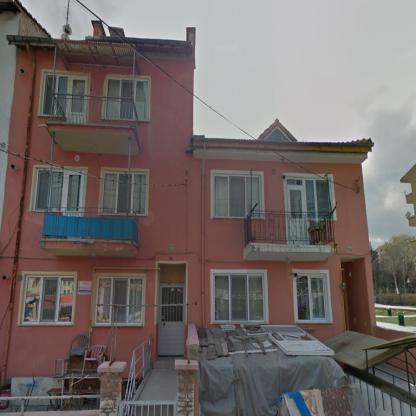door: (159, 285, 183, 354), (286, 179, 308, 242), (64, 170, 84, 216), (70, 76, 87, 124)
window: (22, 275, 74, 323), (214, 275, 264, 322), (95, 277, 143, 324), (214, 176, 261, 217), (102, 173, 146, 214), (106, 79, 148, 120), (296, 275, 326, 321), (35, 170, 65, 210), (305, 179, 333, 219), (42, 74, 68, 115)
